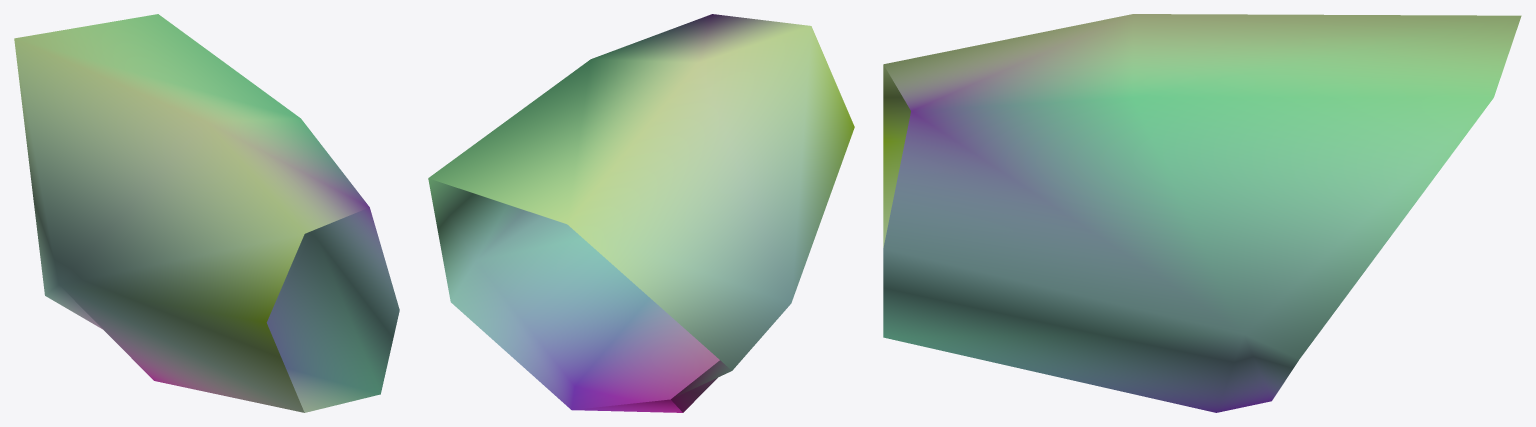
The picture shows the model from 3 angles, left to right: view 1: azimuth 30°, elevation 25°; view 2: azimuth 150°, elevation 25°; view 3: azimuth 270°, elevation 25°; orthographic projection. The views are drawn at different scales.
Parts seen in each view (by area): view 1: part; view 2: part; view 3: part.
Part boxes in pixels (box(x1,y1,x2,y2)): part: box(14, 14, 399, 412); part: box(428, 14, 854, 412); part: box(883, 14, 1521, 412).
Size of the model in its own units: 14 by 14 by 23.
